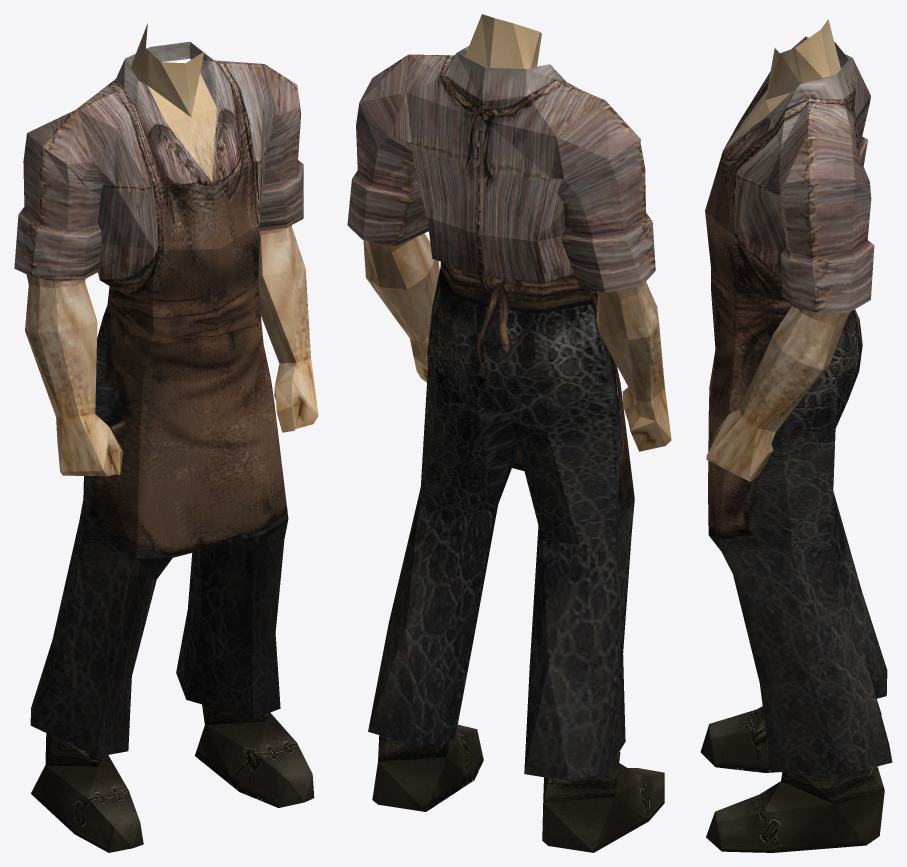
File: Armor_Smith.glb
3 views of the same model, side by side, from view 1: azimuth 30°, elevation 25°; view 2: azimuth 150°, elevation 25°; view 3: azimuth 270°, elevation 25° (orthographic). The views are drawn at different scales.
Parts seen in each view (by area): view 1: Armor_Smithzm_Schmied; view 2: Armor_Smithzm_Schmied; view 3: Armor_Smithzm_Schmied.
Part boxes in pixels (x1,y1,x2,y2): Armor_Smithzm_Schmied: [14, 23, 318, 852]; Armor_Smithzm_Schmied: [347, 14, 671, 852]; Armor_Smithzm_Schmied: [700, 19, 892, 852].
Bounding box in the file's own units: 0.6415 × 1.69 × 0.3752.
2 materials, 2 textured.
